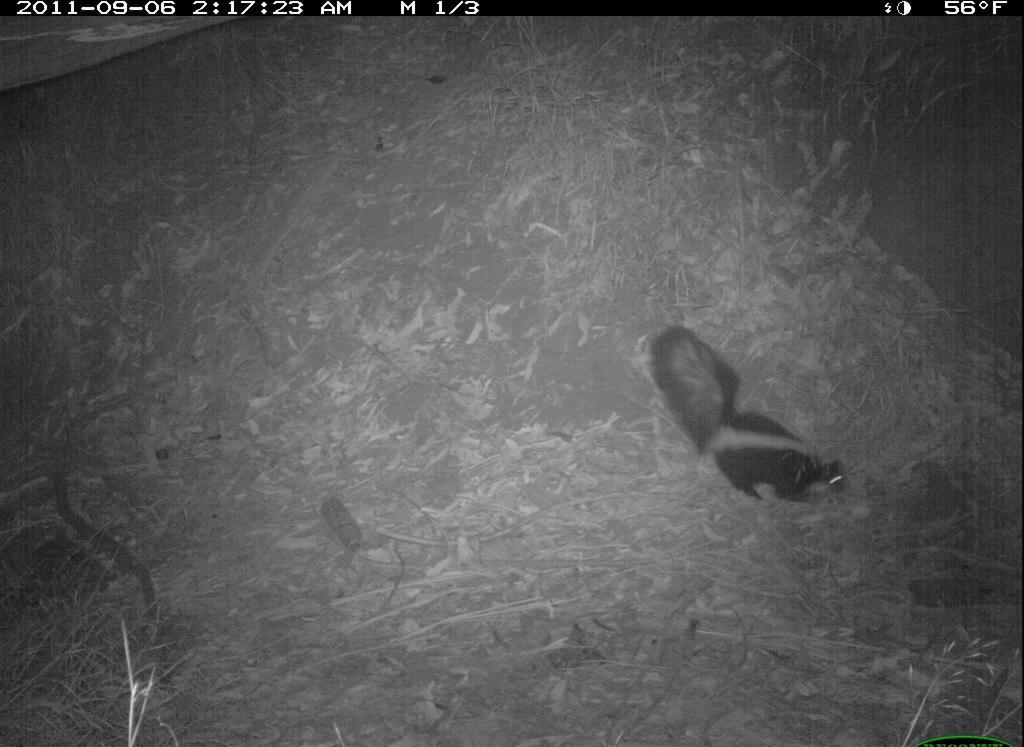skunk: (651, 321, 850, 514)
